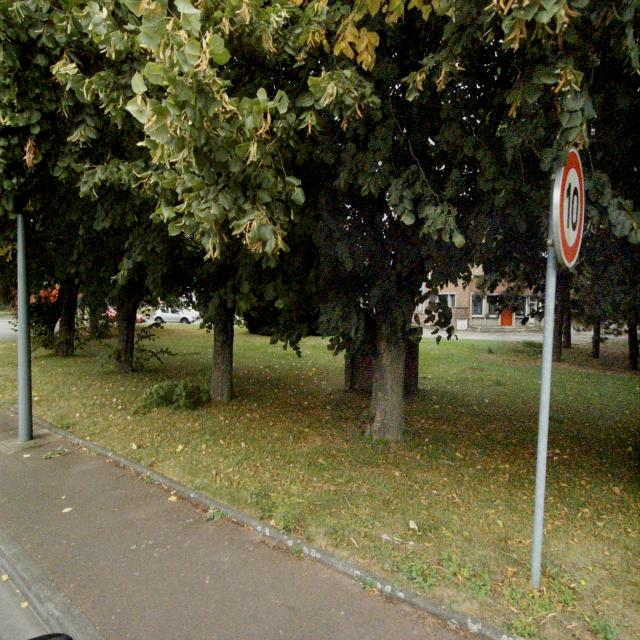car: (14, 291, 119, 335), (242, 300, 324, 336), (145, 303, 201, 327)
